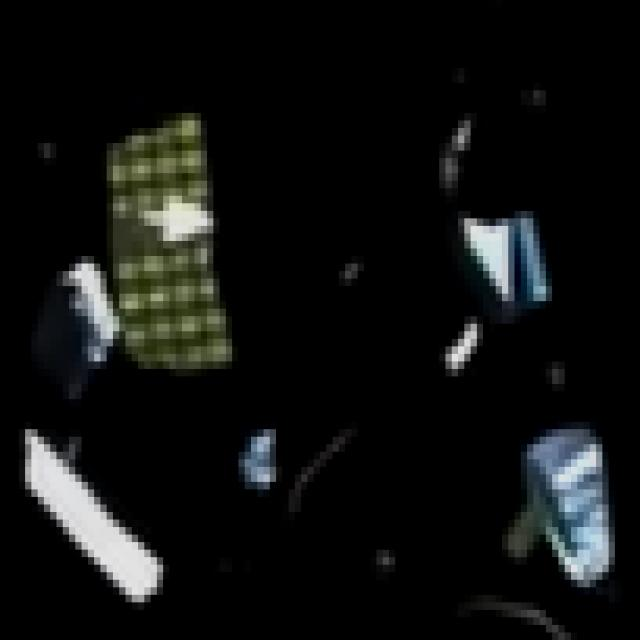large_debris: (14, 88, 260, 402), (11, 420, 304, 612), (418, 82, 582, 410), (508, 422, 632, 610)
